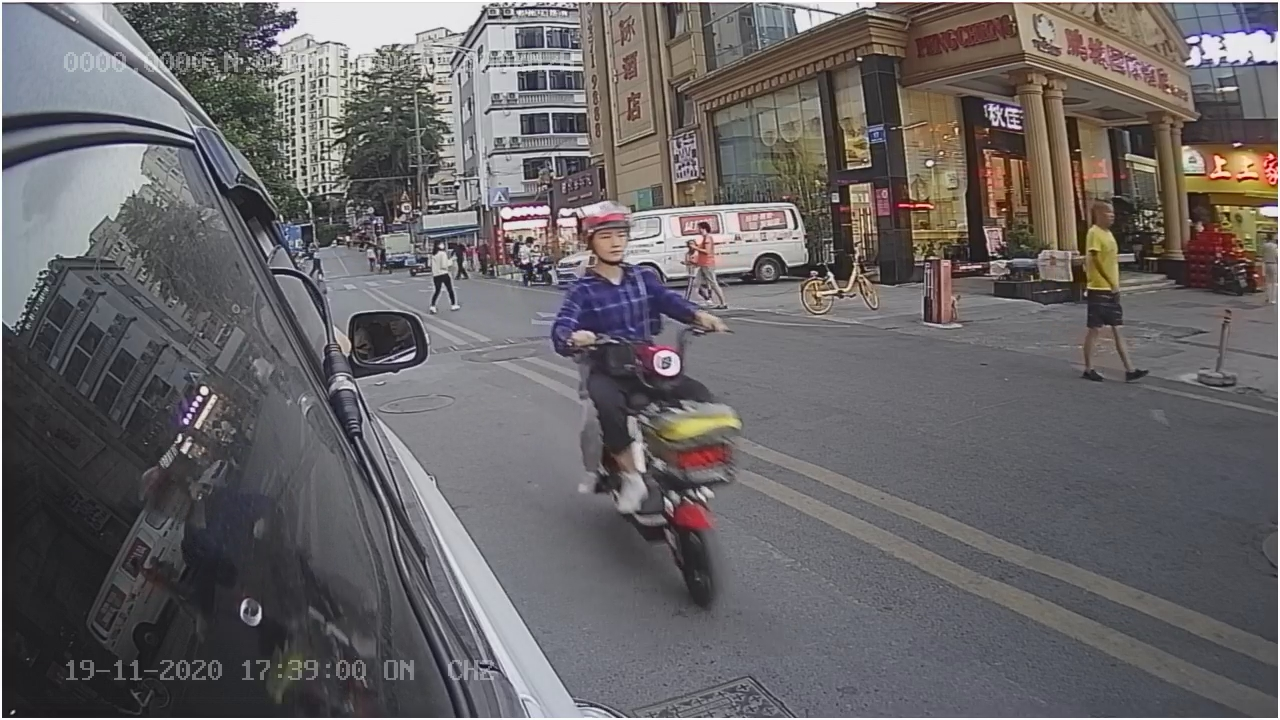person: (548, 210, 663, 385)
